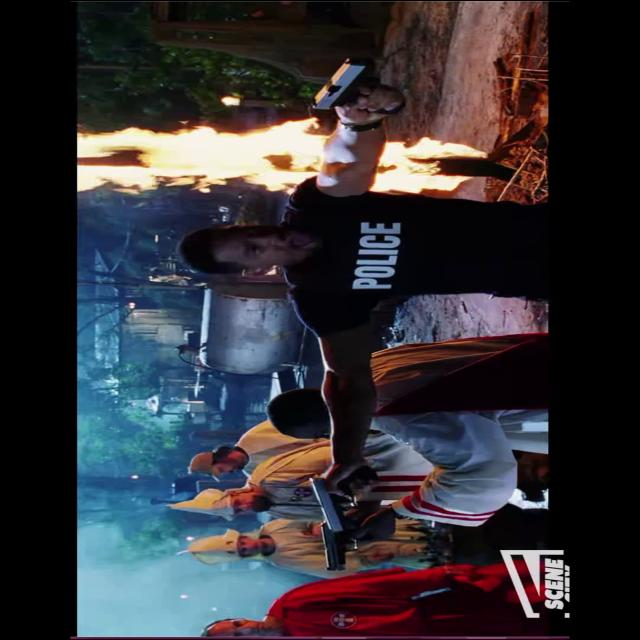weapons: (293, 51, 431, 120), (292, 458, 396, 532)
